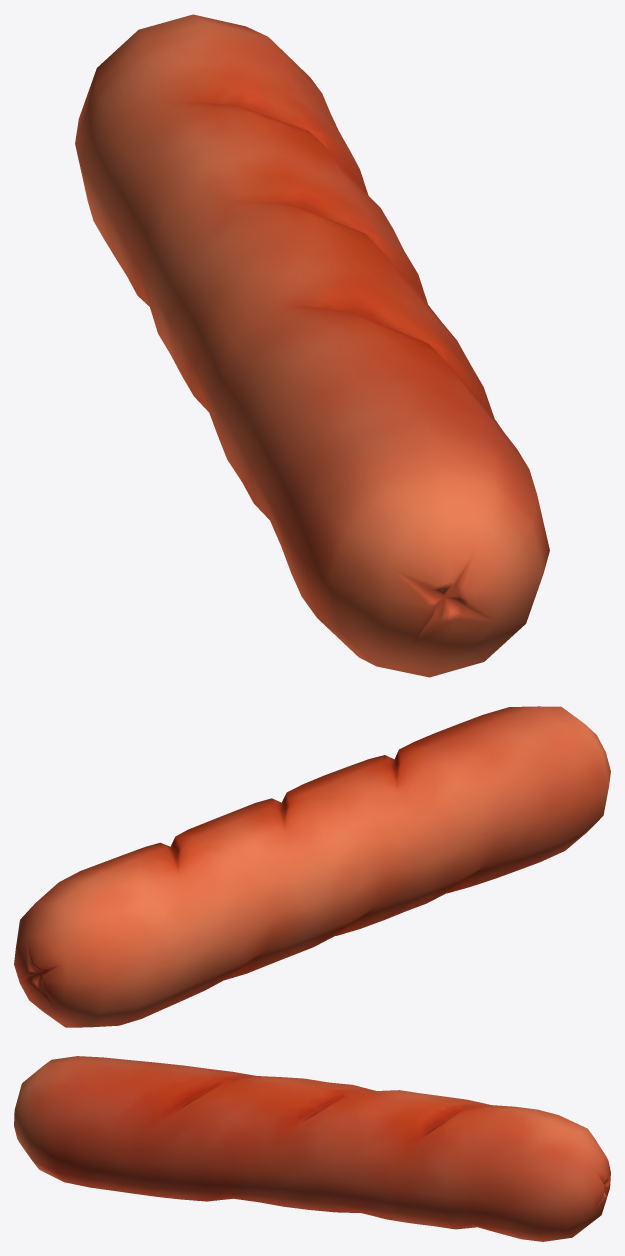
The model's file is ref_bbqhotdog.glb.
3 renders of one model, top to bottom at view 1: azimuth 30°, elevation 25°; view 2: azimuth 150°, elevation 25°; view 3: azimuth 270°, elevation 25°, orthographic. The views are drawn at different scales.
Parts seen in each view (by area): view 1: ref_bbqhotdog_part0; view 2: ref_bbqhotdog_part0; view 3: ref_bbqhotdog_part0.
Boxes of the visible parts, box(x1,y1,x2,y2) form: ref_bbqhotdog_part0: box(75, 14, 549, 677); ref_bbqhotdog_part0: box(14, 706, 610, 1027); ref_bbqhotdog_part0: box(14, 1056, 610, 1241).
Bounding box in the file's own units: 0.4516 × 0.2255 × 1.
1 material, 1 textured.
